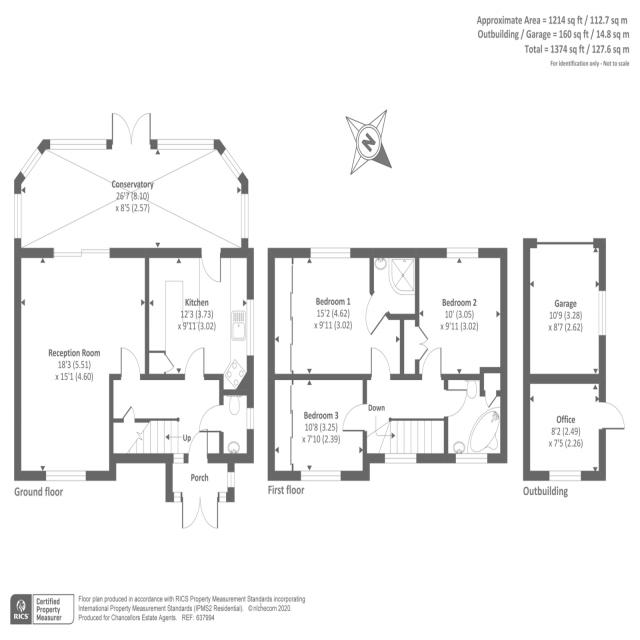DOOR: (362, 286, 390, 341), (599, 398, 627, 433), (196, 402, 224, 435), (199, 248, 223, 286), (186, 426, 210, 463), (182, 345, 207, 380), (443, 387, 470, 419), (370, 345, 394, 380), (341, 402, 367, 433), (421, 345, 444, 380), (119, 346, 141, 380)
DOUBLE DOOR: (182, 492, 219, 531)
ROOM: (13, 248, 150, 482), (268, 248, 404, 380), (145, 238, 254, 395), (268, 373, 385, 481), (414, 248, 507, 380), (523, 373, 629, 481)
SLIDING DOOR: (52, 246, 112, 259)
WINDOW: (596, 284, 610, 341), (307, 244, 353, 261), (298, 468, 343, 484), (245, 297, 256, 358), (382, 449, 417, 466), (547, 467, 583, 483), (444, 245, 481, 260), (453, 450, 489, 465), (45, 470, 87, 482), (246, 405, 255, 431), (227, 471, 235, 489), (173, 452, 184, 464), (173, 491, 182, 503), (218, 491, 227, 503)
